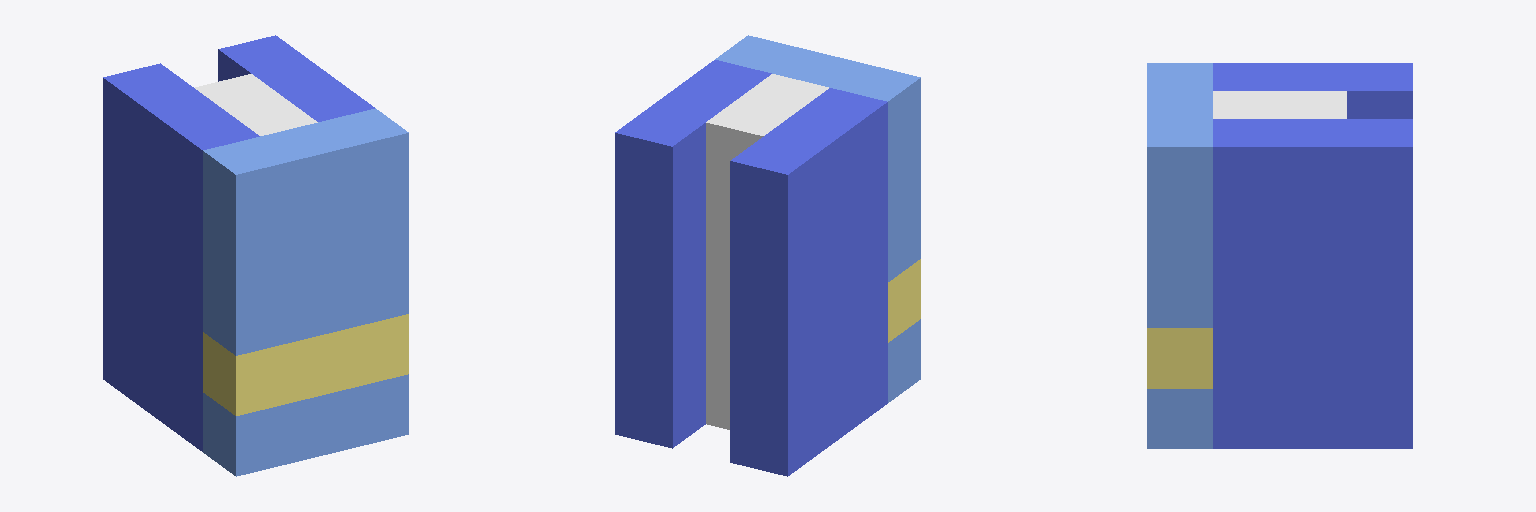
The picture shows the model from 3 angles: view 1: azimuth 30°, elevation 25°; view 2: azimuth 150°, elevation 25°; view 3: azimuth 270°, elevation 25°; orthographic projection.
Visible parts, largest first — view 1: object 1; view 2: object 1; view 3: object 1.
Part boxes in pixels (x1,y1,x2,y2): object 1: (103,35,408,476); object 1: (615,35,920,476); object 1: (1147,63,1412,448).
Bounding box in the file's own units: 0.3 × 0.5 × 0.4.
1 materials, 1 textured.